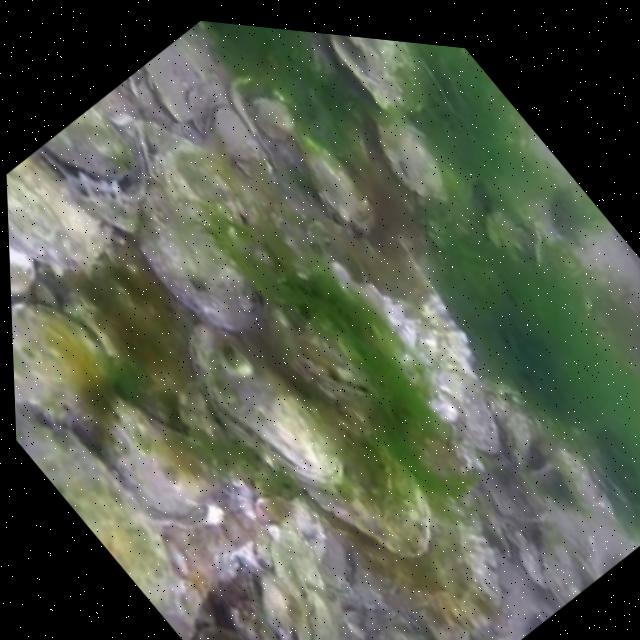Oyster-Closed: (190, 325, 350, 491), (100, 397, 229, 525), (6, 152, 115, 276), (299, 136, 377, 236), (331, 263, 421, 348), (68, 171, 142, 233), (206, 104, 264, 160), (133, 120, 158, 182), (509, 414, 531, 474)
Oyster-Indeterminate: (15, 414, 202, 640), (136, 148, 267, 336), (308, 418, 434, 557), (11, 302, 107, 429), (378, 107, 450, 202), (540, 524, 583, 605), (465, 381, 502, 454), (503, 219, 544, 264), (254, 98, 292, 141)
Oyster-Open: (37, 107, 143, 195), (330, 34, 423, 112)
